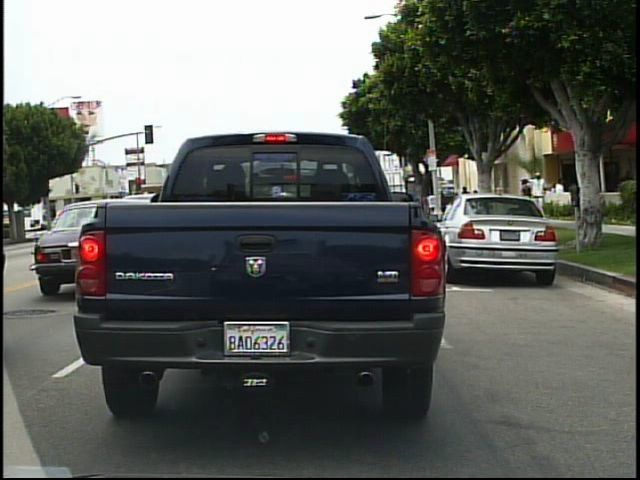person: (527, 165, 551, 215), (551, 176, 571, 221), (516, 175, 534, 223), (456, 182, 475, 220)
